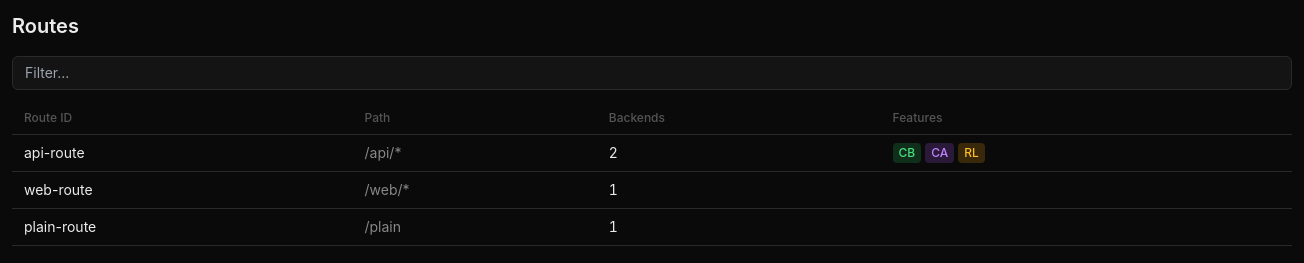
Scenario: RoutesPage › detail shows only configured features
Step 1. Click the text "plain-route" → (60, 226), box [12,208,352,246]
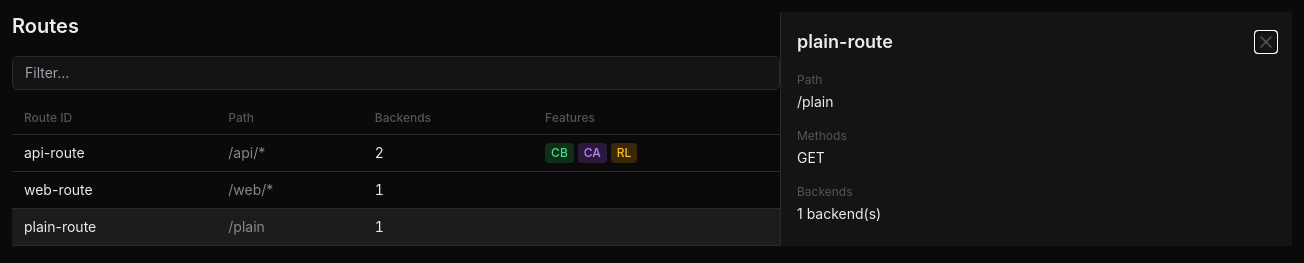
Now the element named "details for plain-route" is shown, box [780,12,1292,246]
